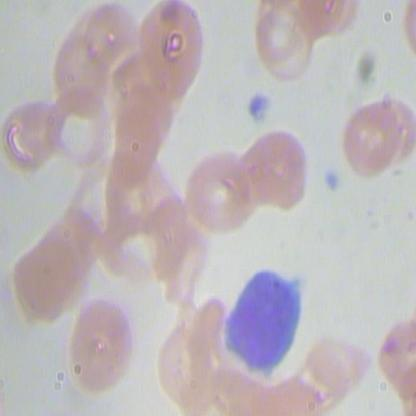Platelets: (244, 89, 274, 127), (314, 159, 344, 197)
RBC: (32, 198, 110, 298), (236, 122, 314, 221), (63, 290, 141, 389), (3, 227, 81, 326), (109, 73, 187, 172), (144, 313, 222, 412), (178, 140, 256, 238), (140, 190, 218, 288), (136, 1, 207, 96), (0, 88, 68, 171), (339, 94, 406, 177), (47, 85, 114, 167), (370, 300, 416, 400), (76, 1, 135, 75), (245, 1, 308, 66), (377, 86, 415, 169)
WBC: (215, 262, 321, 380)
